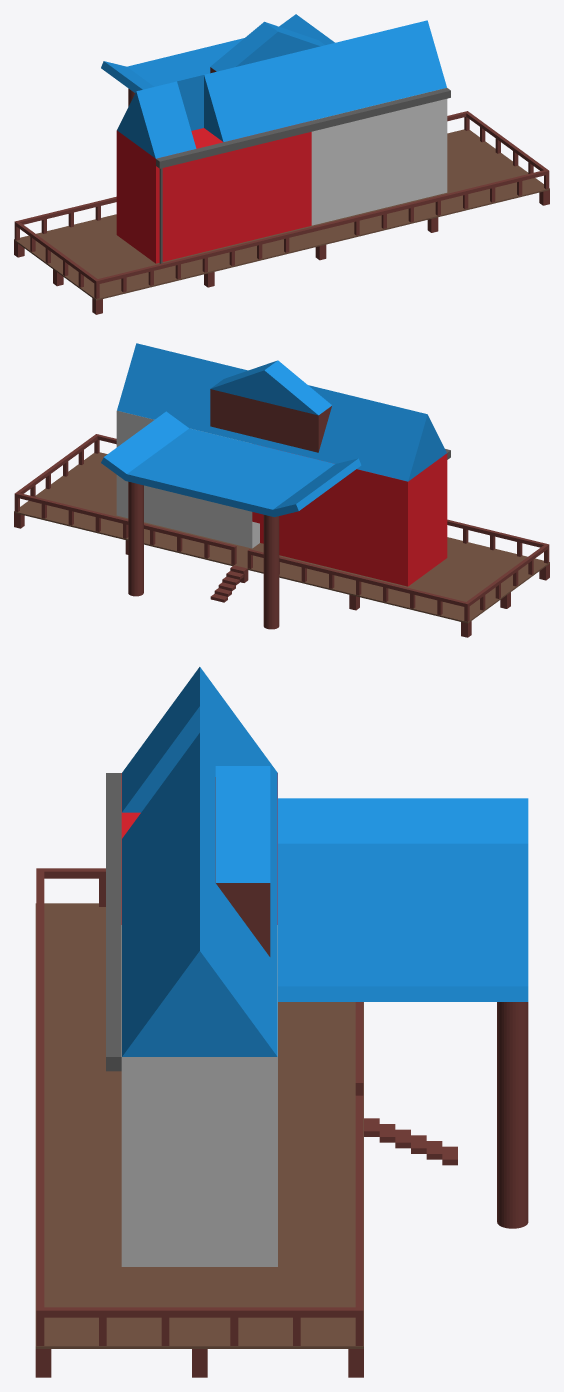
File: HakureiJinja - Kopie.obj
The picture shows the model from 3 angles, top to bottom: view 1: azimuth 30°, elevation 25°; view 2: azimuth 150°, elevation 25°; view 3: azimuth 270°, elevation 25°; orthographic projection. The views are drawn at different scales.
Parts seen in each view (by area): view 1: Cube.065, Cylinder.003, Cube.009, Cube.064, Cylinder, Cube.069, Cube.063, Cylinder.006, Cube.068, Cube.066, Cylinder.004, Cube.076 (+5 smaller); view 2: Cube.065, Cube.009, Cube.068, Cylinder.003, Cube.064, Cube.075, Cylinder, Cylinder.006, Cube.077, Cylinder.005, Cylinder.004, Cylinder.001 (+6 smaller); view 3: Cube.009, Cube.068, Cylinder.003, Cube.064, Cube.076, Cylinder, Cylinder.001, Cylinder.006, Cube.069, Cube.063, Cube.077, Cube.048 (+3 smaller).
Boxes of the visible parts, x1,y1,x2,y2 form: Cube.065: (116,128,291,263); Cylinder.003: (204,20,446,142); Cube.009: (14,129,549,300); Cube.064: (311,99,447,225); Cylinder: (117,81,196,158); Cube.069: (156,88,450,168); Cube.063: (94,169,549,284); Cylinder.006: (210,21,324,71); Cube.068: (127,38,244,86); Cube.066: (291,132,311,230); Cylinder.004: (177,75,203,130); Cube.076: (101,61,153,92); Cube.065: (279,453,447,586); Cube.009: (14,452,549,623); Cube.068: (125,428,334,516); Cylinder.003: (117,343,359,463); Cube.064: (116,410,259,548); Cube.075: (210,389,331,452); Cylinder: (367,404,446,481); Cylinder.006: (210,360,331,415); Cube.077: (101,411,188,480); Cylinder.005: (263,515,279,629); Cylinder.004: (341,398,386,471); Cylinder.001: (128,481,143,596); Cube.009: (35,903,363,1348); Cube.068: (278,843,528,986); Cylinder.003: (122,733,277,1056); Cube.064: (121,925,277,1266); Cube.076: (278,798,528,843); Cylinder: (122,667,277,812); Cylinder.001: (497,1002,528,1228); Cylinder.006: (215,766,270,882); Cube.069: (106,773,121,1071); Cube.063: (36,868,44,1317); Cube.077: (278,986,528,1001); Cube.048: (44,1307,355,1317).
Bounding box in the file's own units: 67 × 27.7 × 31.5.
